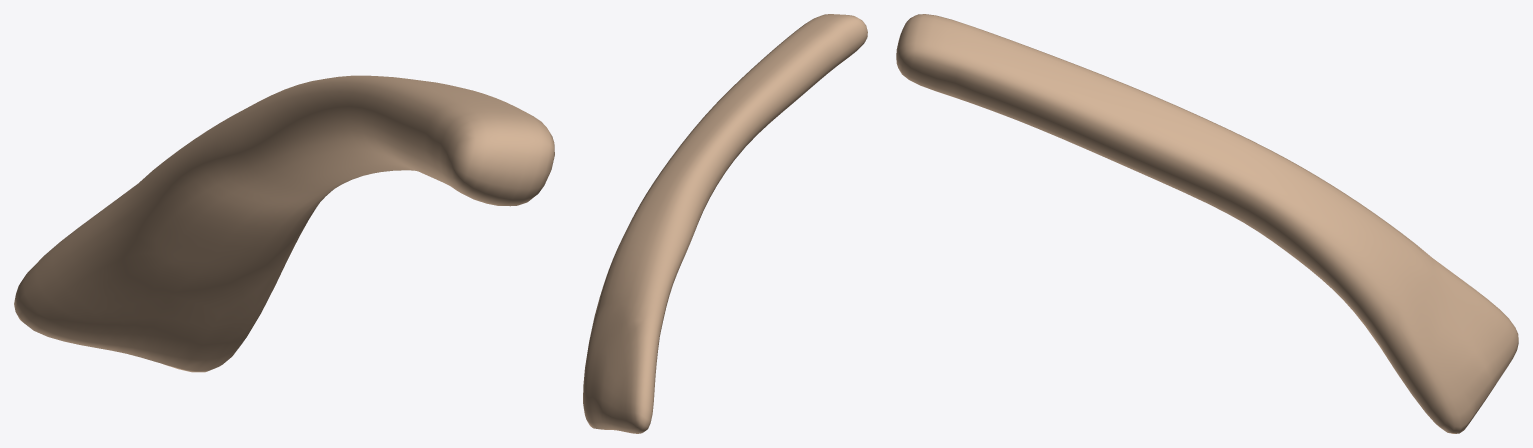
3 views of the same model, side by side, from view 1: azimuth 30°, elevation 25°; view 2: azimuth 150°, elevation 25°; view 3: azimuth 270°, elevation 25° (orthographic). The views are drawn at different scales.
Parts seen in each view (by area): view 1: 右侧趾长伸肌腱鞘; view 2: 右侧趾长伸肌腱鞘; view 3: 右侧趾长伸肌腱鞘.
Boxes of the visible parts, x1,y1,x2,y2 form: 右侧趾长伸肌腱鞘: [14, 75, 554, 372]; 右侧趾长伸肌腱鞘: [583, 14, 867, 433]; 右侧趾长伸肌腱鞘: [896, 14, 1518, 433].
Size of the model in its own units: 0.0246 by 0.0684 by 0.1017.
